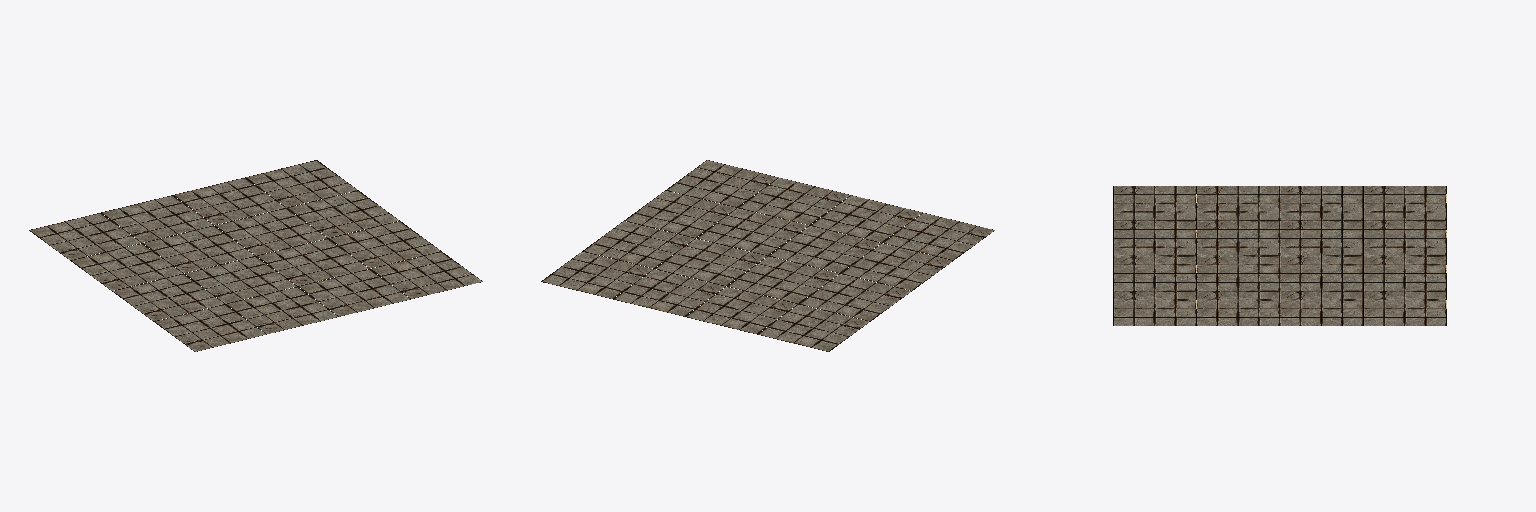
3 renders of one model, left to right at view 1: azimuth 30°, elevation 25°; view 2: azimuth 150°, elevation 25°; view 3: azimuth 270°, elevation 25°, orthographic.
Visible parts, largest first — view 1: mesh01; view 2: mesh01; view 3: mesh01.
Boxes of the visible parts, x1=… form: mesh01: x1=29, y1=160, x2=482, y2=351; mesh01: x1=541, y1=160, x2=994, y2=351; mesh01: x1=1113, y1=186, x2=1446, y2=325.
Bounding box in the file's own units: 1995 × 0.0001 × 1995.
1 materials, 1 textured.